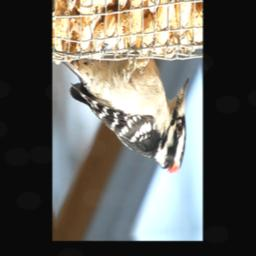Woodpecker: (64, 41, 190, 184)
